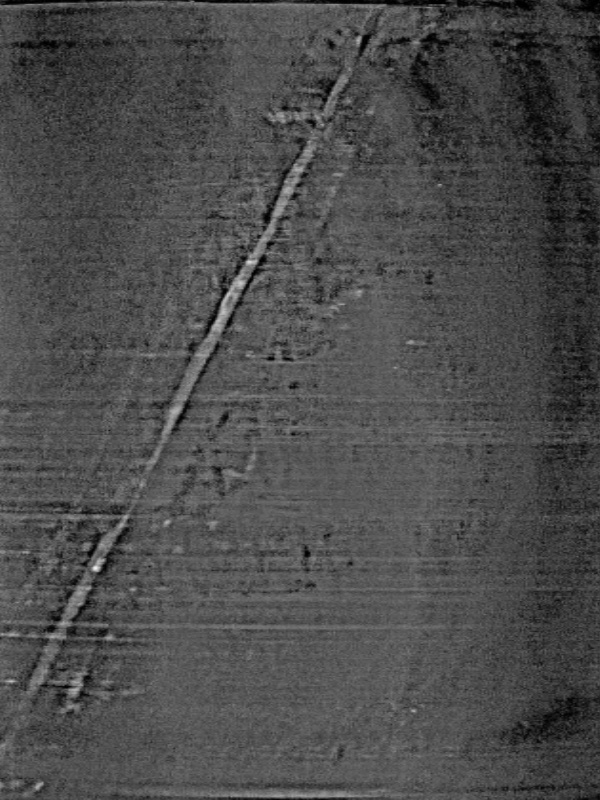splice_vulcanized: (1, 6, 438, 793)
